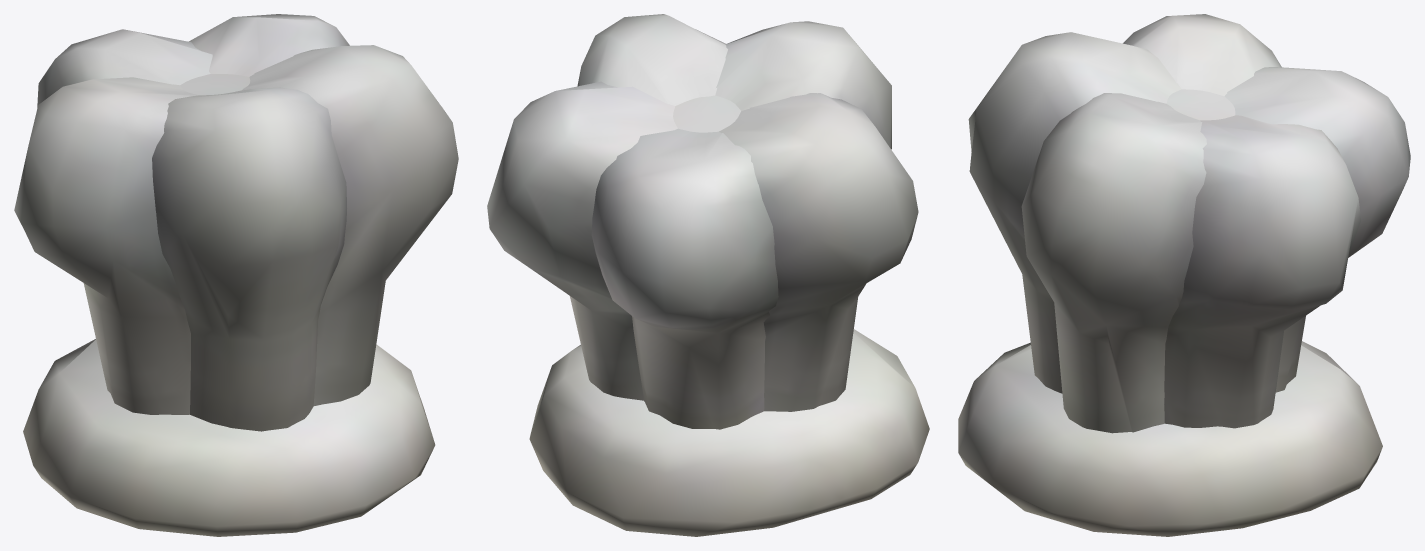
File: Chef_Hat.glb
The picture shows the model from 3 angles, left to right: view 1: azimuth 30°, elevation 25°; view 2: azimuth 150°, elevation 25°; view 3: azimuth 270°, elevation 25°; orthographic projection. The views are drawn at different scales.
Visible parts, largest first — view 1: Chef_Hat; view 2: Chef_Hat; view 3: Chef_Hat.
Boxes of the visible parts, x1=… form: Chef_Hat: x1=14, y1=14, x2=458, y2=536; Chef_Hat: x1=487, y1=14, x2=929, y2=536; Chef_Hat: x1=958, y1=14, x2=1410, y2=536.
Bounding box in the file's own units: 0.4845 × 0.4938 × 0.5039.
1 material, 1 textured.
